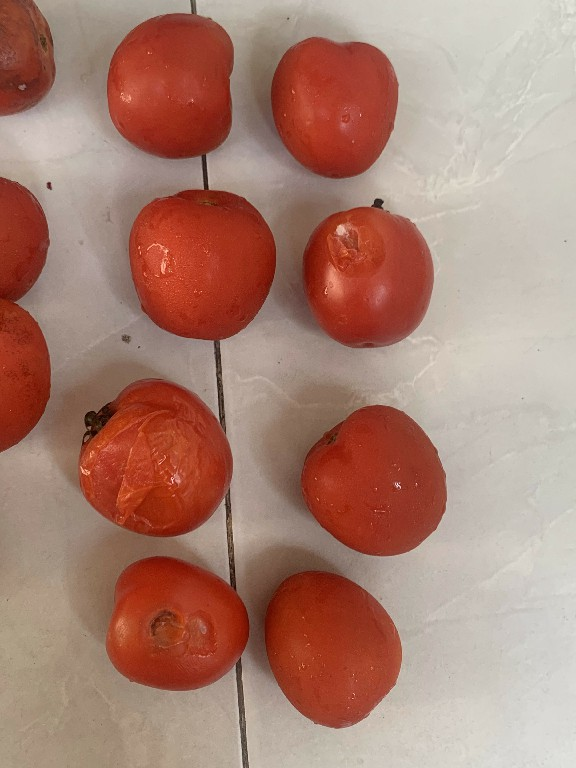NG: (66, 369, 239, 548), (293, 190, 444, 355), (100, 549, 262, 701)
OK: (294, 390, 462, 563), (121, 182, 282, 343), (260, 561, 407, 736), (264, 20, 409, 182), (97, 6, 242, 167)
